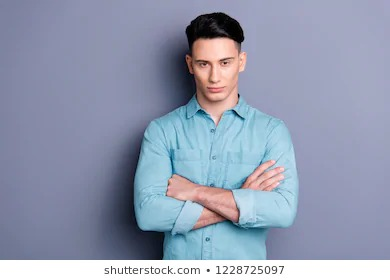F_shirt: (129, 102, 305, 259)
